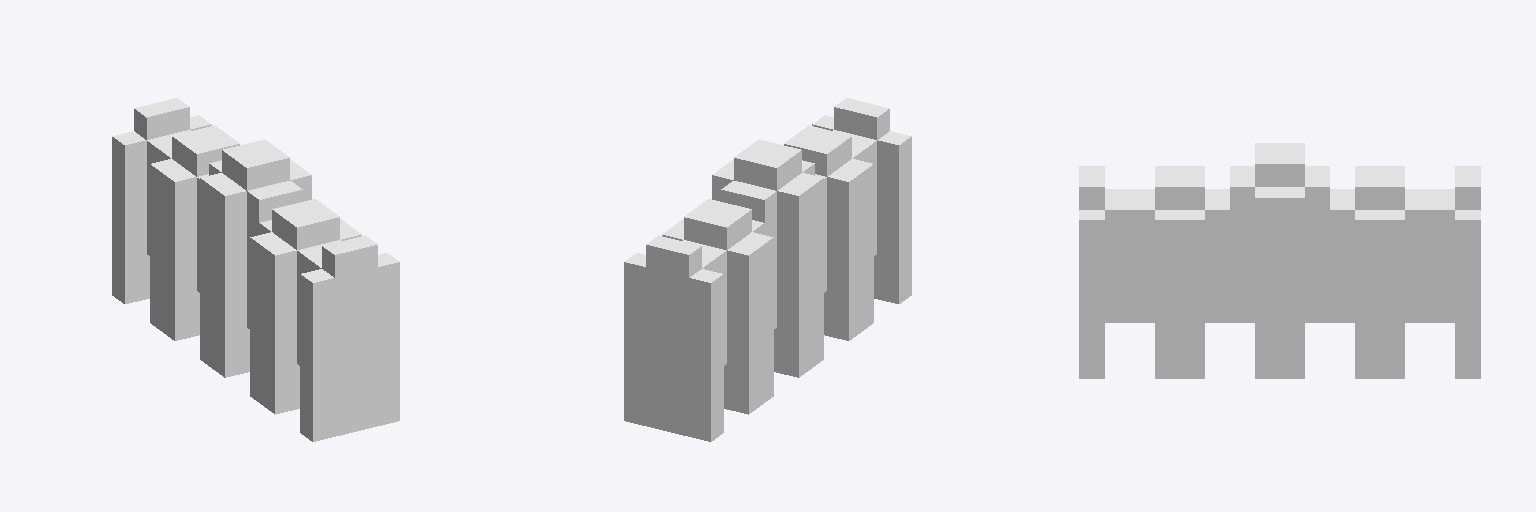
The model's file is Dungeon-8-Fence-Straight.obj.
The picture shows the model from 3 angles: view 1: azimuth 30°, elevation 25°; view 2: azimuth 150°, elevation 25°; view 3: azimuth 270°, elevation 25°; orthographic projection.
Visible parts, largest first — view 1: Fence-Straight; view 2: Fence-Straight; view 3: Fence-Straight.
Boxes of the visible parts, x1=… form: Fence-Straight: x1=112, y1=98, x2=399, y2=441; Fence-Straight: x1=624, y1=98, x2=911, y2=441; Fence-Straight: x1=1079, y1=143, x2=1480, y2=378.
Bounding box in the file's own units: 0.4 × 0.9 × 1.6.